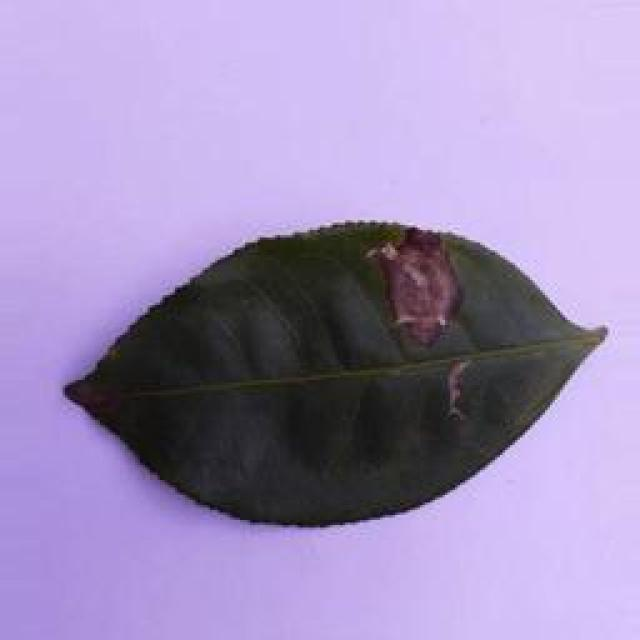Gray Blight: (67, 219, 607, 525)
